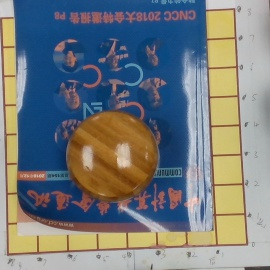chess: (58, 101, 161, 205)
